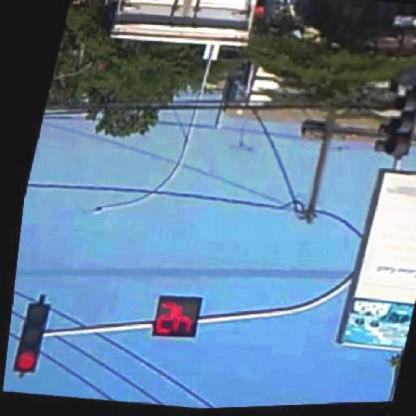Traffic Light -Red-: (10, 302, 49, 375)
